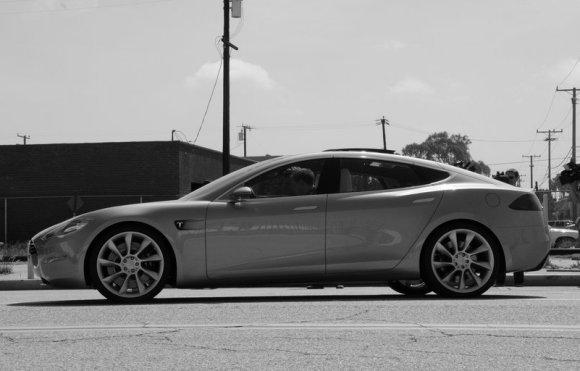car: (21, 141, 573, 321)
